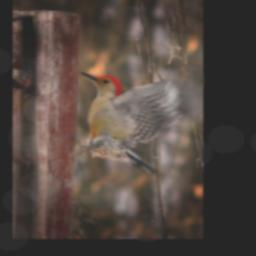Woodpecker: (79, 69, 201, 176)
